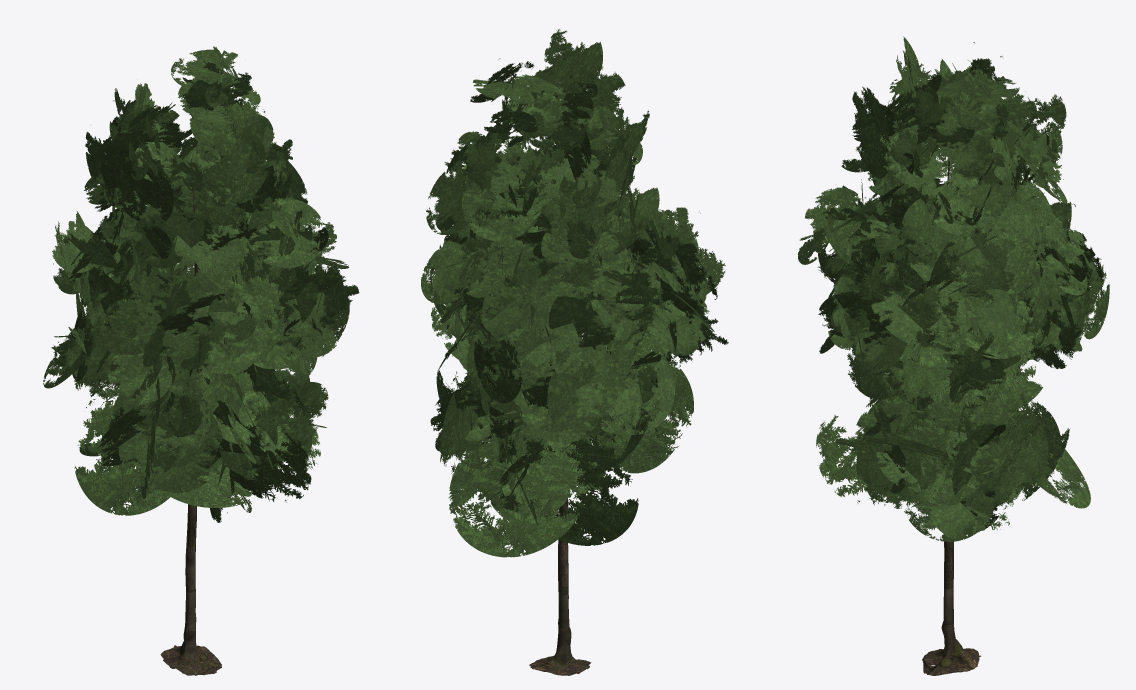
File: las_jodla_b.glb
3 renders of one model, left to right at view 1: azimuth 30°, elevation 25°; view 2: azimuth 150°, elevation 25°; view 3: azimuth 270°, elevation 25°, orthographic. The views are drawn at different scales.
Parts seen in each view (by area): view 1: liscie_2, liscie_1, liscie_0, pien; view 2: liscie_2, liscie_1, liscie_0, pien; view 3: liscie_2, liscie_1, liscie_0, pien.
Boxes of the visible parts, bbox=[...] form: liscie_2: bbox=[43, 46, 349, 522]; liscie_1: bbox=[52, 61, 359, 512]; liscie_0: bbox=[53, 62, 339, 482]; pien: bbox=[160, 158, 221, 675]; liscie_2: bbox=[426, 29, 728, 557]; liscie_1: bbox=[421, 40, 714, 512]; liscie_0: bbox=[429, 68, 709, 514]; pien: bbox=[529, 186, 591, 675]; liscie_2: bbox=[813, 36, 1103, 533]; liscie_1: bbox=[805, 42, 1109, 541]; liscie_0: bbox=[798, 58, 1097, 506]; pien: bbox=[922, 158, 981, 675].
Size of the model in its own units: 7.2 by 14.97 by 7.07.
2 materials, 2 textured.
